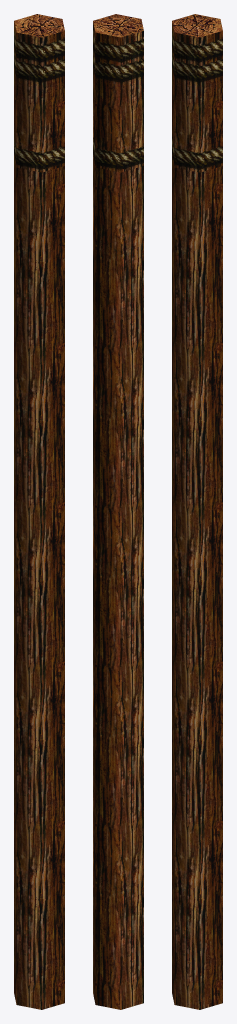
Rendered from INST_LT_WATERPOST_01.fbx.
The picture shows the model from 3 angles, left to right: view 1: azimuth 90°, elevation 25°; view 2: azimuth 150°, elevation 25°; view 3: azimuth 270°, elevation 25°; orthographic projection.
Visible parts, largest first — view 1: INST_LT_WATERPOST_01; view 2: INST_LT_WATERPOST_01; view 3: INST_LT_WATERPOST_01.
Boxes of the visible parts, x1,y1,x2,y2 form: INST_LT_WATERPOST_01: (14, 14, 64, 1009); INST_LT_WATERPOST_01: (93, 14, 143, 1009); INST_LT_WATERPOST_01: (172, 14, 222, 1009).
Bounding box in the file's own units: 4404 × 84466 × 4006.
Materials: 3 (3 with a texture image).
